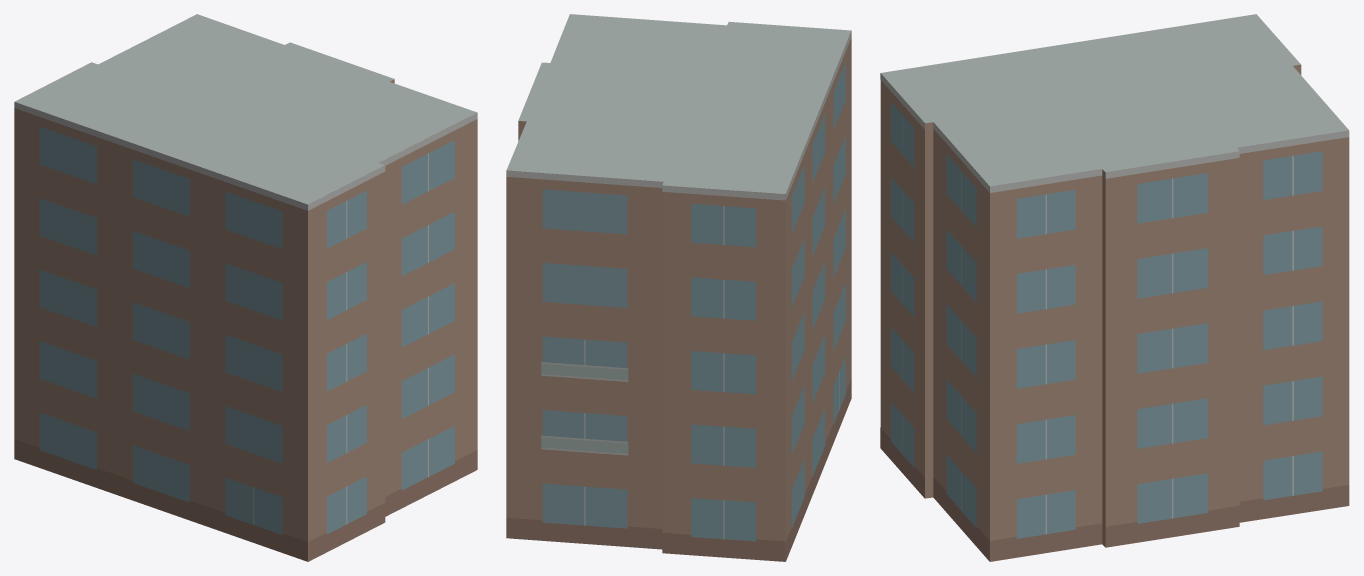
File: survey-upis-32851432.glb
The picture shows the model from 3 angles, left to right: view 1: azimuth 30°, elevation 25°; view 2: azimuth 150°, elevation 25°; view 3: azimuth 270°, elevation 25°; orthographic projection. The views are drawn at different scales.
Parts seen in each view (by area): view 1: survey-upis-32851432.tmp; view 2: survey-upis-32851432.tmp; view 3: survey-upis-32851432.tmp.
Part boxes in pixels (x1,y1,x2,y2): survey-upis-32851432.tmp: (14,14,477,561); survey-upis-32851432.tmp: (506,14,851,561); survey-upis-32851432.tmp: (880,14,1349,561).
Size of the model in its own units: 13.81 by 14 by 15.86.
